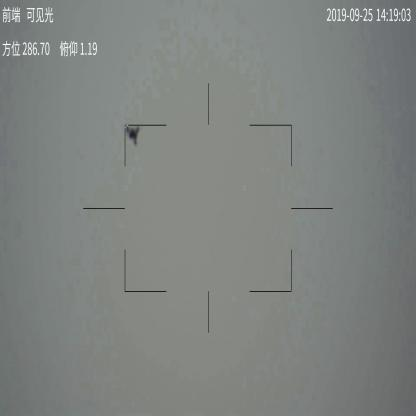uav: (125, 123, 142, 147)
